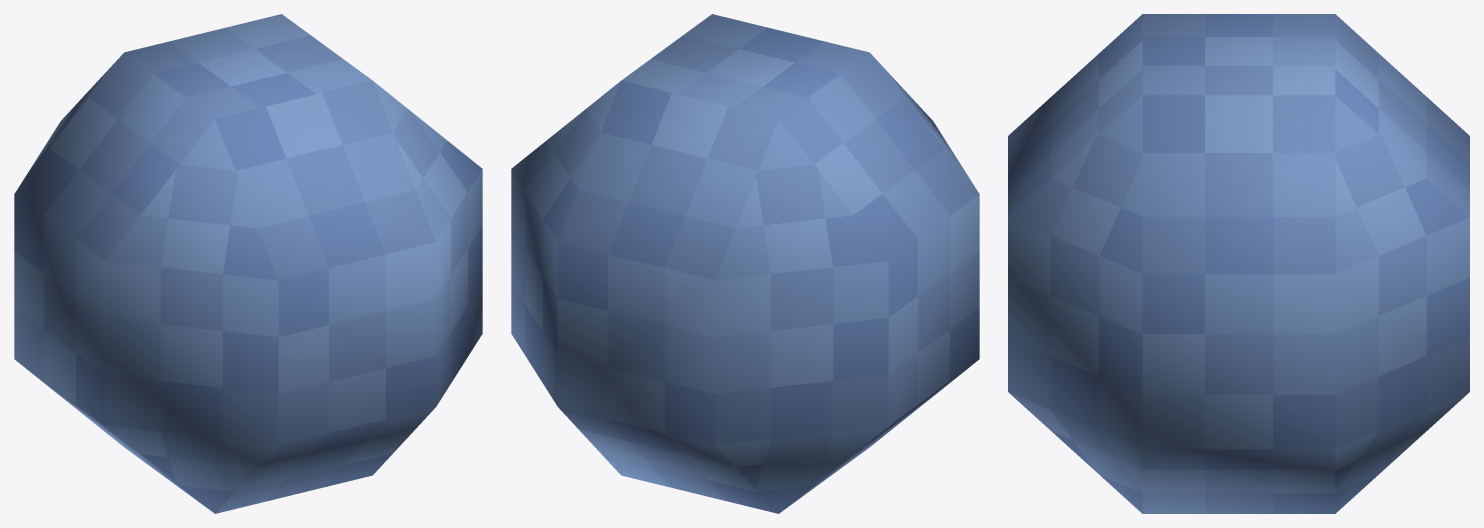
The model's file is 0073_Blue_Ornament.glb.
The picture shows the model from 3 angles, left to right: view 1: azimuth 30°, elevation 25°; view 2: azimuth 150°, elevation 25°; view 3: azimuth 270°, elevation 25°; orthographic projection. The views are drawn at different scales.
Visible parts, largest first — view 1: part_0; view 2: part_0; view 3: part_0.
Boxes of the visible parts, x1,y1,x2,y2 form: part_0: (14,14,482,513); part_0: (511,14,979,513); part_0: (1008,14,1469,513).
Size of the model in its own units: 0.046 by 0.046 by 0.046.
Materials: 1 (1 with a texture image).
